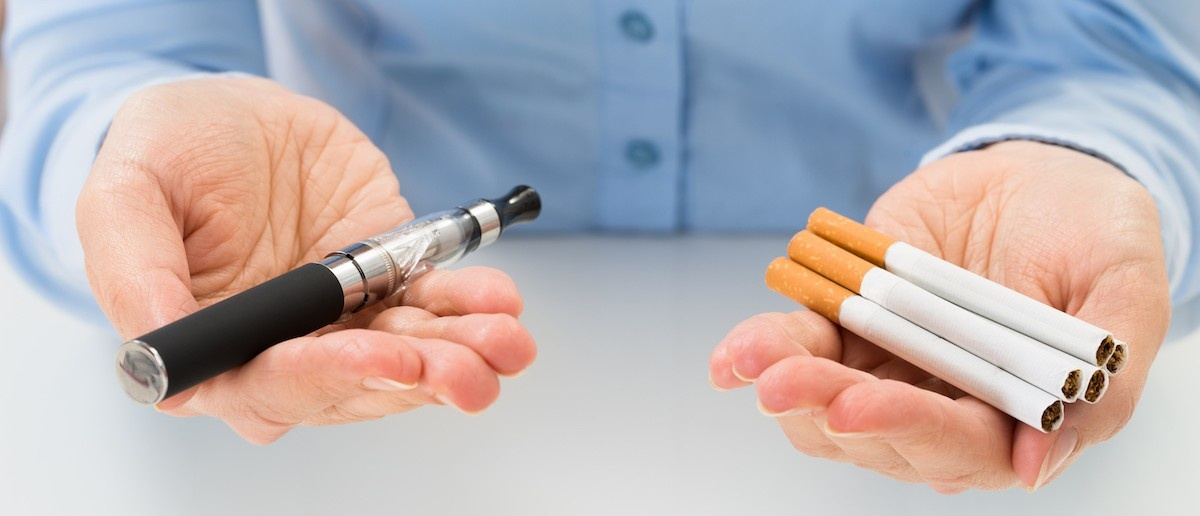sigaretta: (789, 190, 1146, 460)
